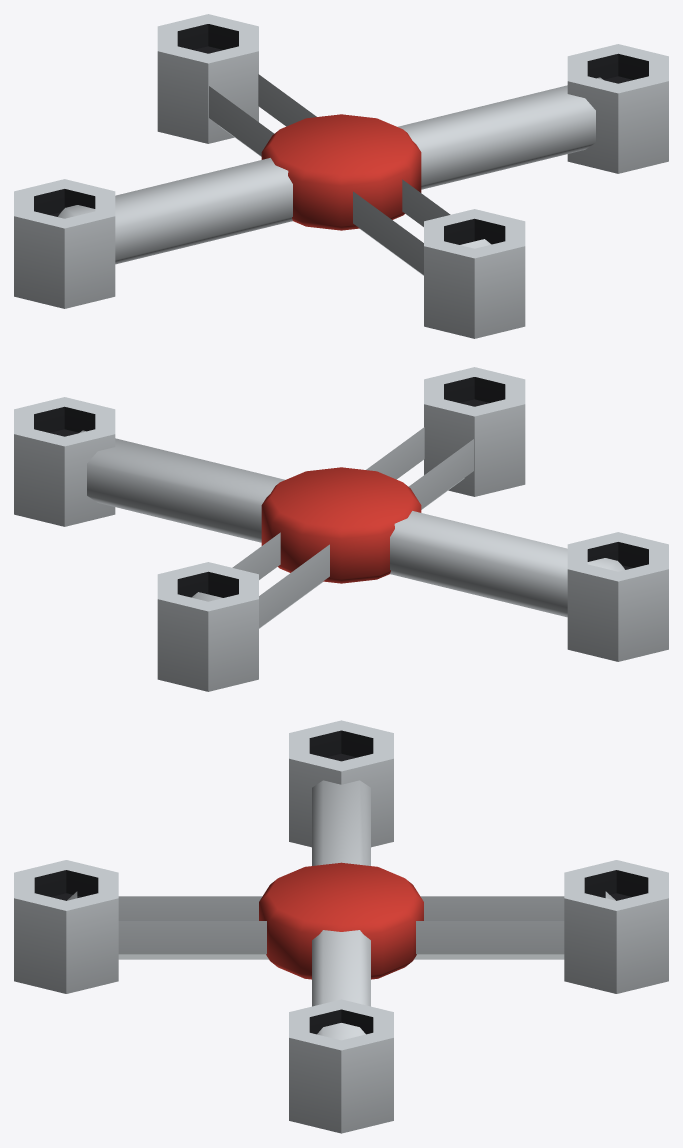
Rendered from SM_LugWrench_Cross_01.glb.
The picture shows the model from 3 angles, top to bottom: view 1: azimuth 30°, elevation 25°; view 2: azimuth 150°, elevation 25°; view 3: azimuth 270°, elevation 25°; orthographic projection. The views are drawn at different scales.
Parts seen in each view (by area): view 1: SM_LugWrench_Cross_01; view 2: SM_LugWrench_Cross_01; view 3: SM_LugWrench_Cross_01.
Part boxes in pixels (x1,y1,x2,y2): SM_LugWrench_Cross_01: (14,14,668,338); SM_LugWrench_Cross_01: (14,367,668,691); SM_LugWrench_Cross_01: (14,720,668,1133).
Size of the model in its own units: 0.426 by 0.05 by 0.3572.
Materials: 1 (1 with a texture image).
